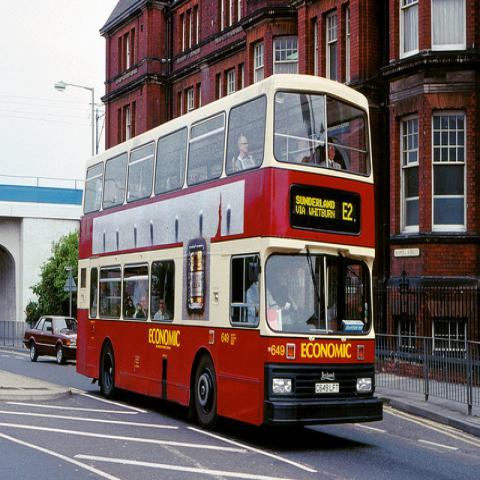bus: (73, 73, 383, 434)
car: (23, 315, 78, 364)
